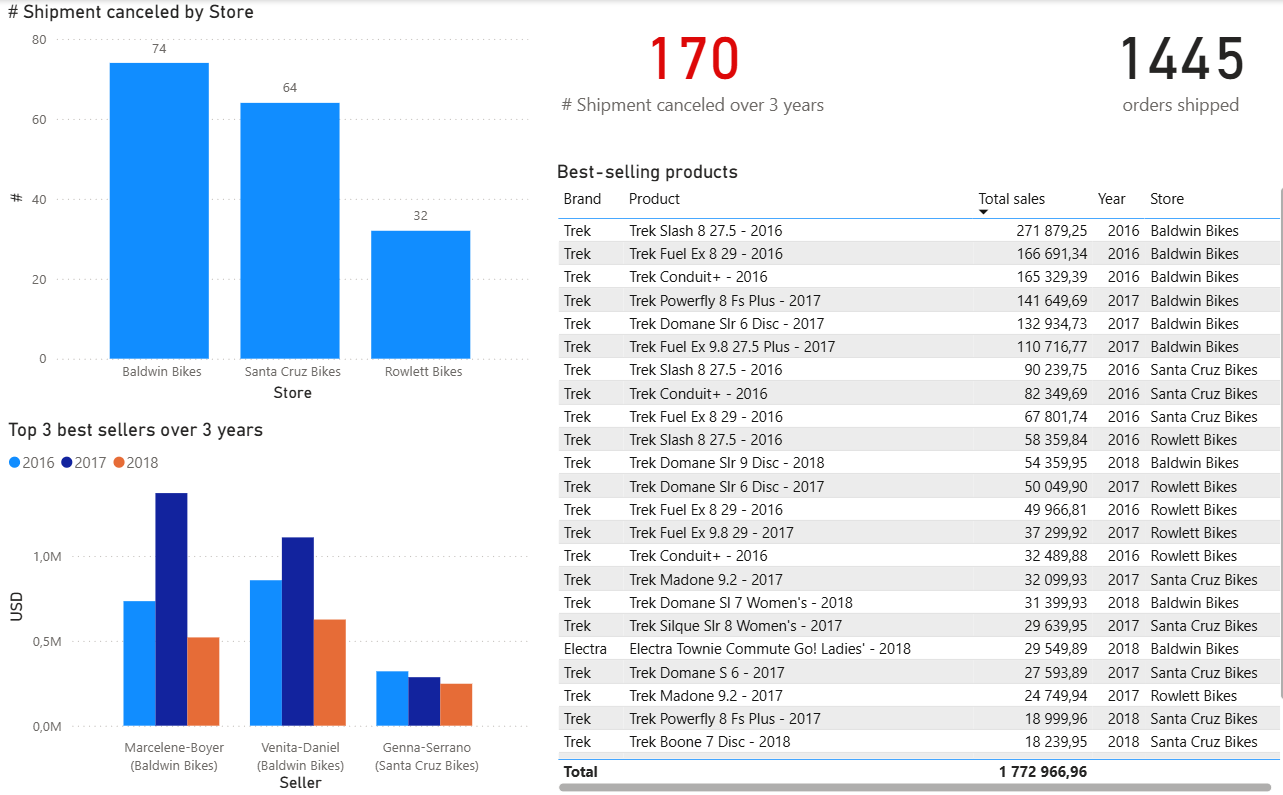

The page's visual inventory and layout, read from the dashboard file:
{"tool":"powerbi","page":{"name":"LocalBike2","canvas":[1280,720],"ordinal":1},"visuals":[{"type":"columnChart","title":"# Shipment canceled by Store","fields":{"Category":["orders_shipped_aborted_monthly_report.store_name"],"Y":["orders_shipped_aborted_monthly_report.# Shipment canceled"]},"box":[16,0,480,368],"z":0},{"type":"card","title":"# Shipment canceled over 3 years","fields":{"Values":["orders_shipped_aborted_monthly_report.# Shipment canceled"]},"box":[512,0,272,112],"z":1000},{"type":"clusteredColumnChart","title":"Top 3 best sellers over 3 years","fields":{"Category":["ranking_sales_staffs_yearly_top3_report.year"],"Y":["ranking_sales_staffs_yearly_top3_report.total_sales"],"Series":["ranking_sales_staffs_yearly_top3_report.staff_name"]},"box":[16,378,480,342],"z":2000},{"type":"tableEx","title":"Best-selling products","fields":{"Values":["products_stores_ranking_yearly_report.brand_name","products_stores_ranking_yearly_report.product_name","products_stores_ranking_yearly_report.total_sales","products_stores_ranking_yearly_report.Year","products_stores_ranking_yearly_report.store"]},"box":[512,144,672,576],"z":3000},{"type":"card","title":"# Orders shipped over 3 years","fields":{"Values":["orders_shipped_monthly_report.nb_order_shipped"]},"box":[944,0,240,112],"z":4000}]}

Visuals, with their boxes on the page's 1280x720 design canvas (x1, y1, x2, y2). These are canvas units, not pixel positions in the 1283x795 screenshot, which may show the page scaled, cropped or inside an application window:
"# Shipment canceled by Store" columnChart: (left=16, top=0, right=496, bottom=368)
"# Shipment canceled over 3 years" card: (left=512, top=0, right=784, bottom=112)
"Top 3 best sellers over 3 years" clusteredColumnChart: (left=16, top=378, right=496, bottom=720)
"Best-selling products" tableEx: (left=512, top=144, right=1184, bottom=720)
"# Orders shipped over 3 years" card: (left=944, top=0, right=1184, bottom=112)
